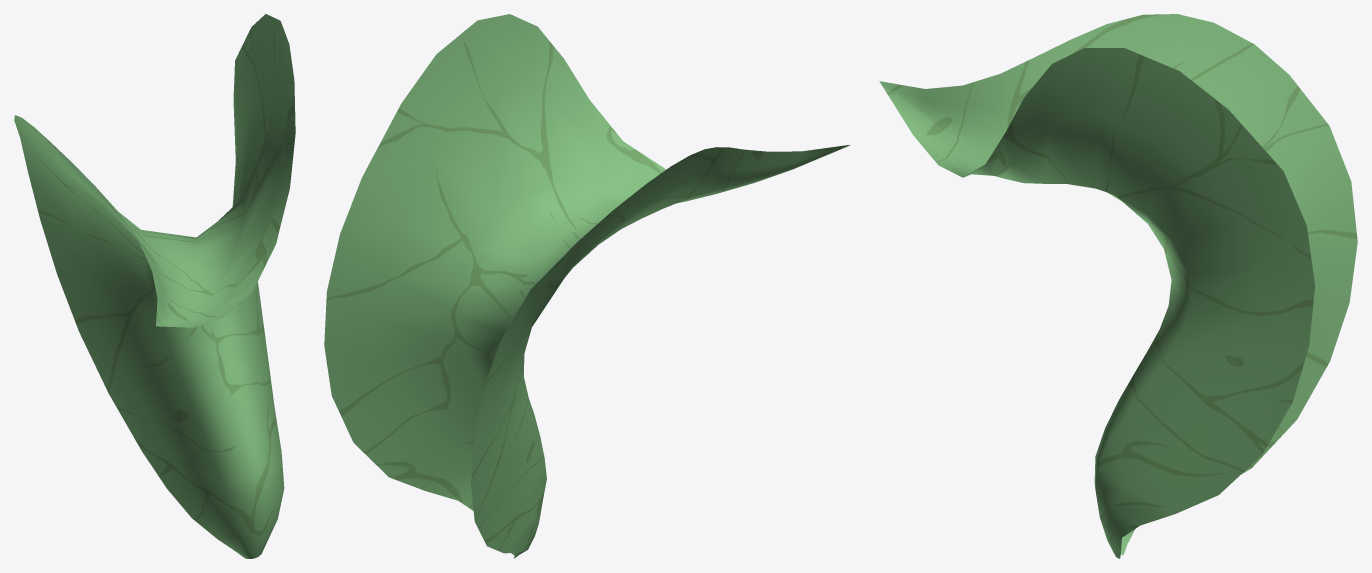
File: Mesh_Home_RF_Leaf_09_SM.fbx
3 renders of one model, left to right at view 1: azimuth 30°, elevation 25°; view 2: azimuth 150°, elevation 25°; view 3: azimuth 270°, elevation 25°, orthographic.
Visible parts, largest first — view 1: Mesh_Home_RF_Leaf_09; view 2: Mesh_Home_RF_Leaf_09; view 3: Mesh_Home_RF_Leaf_09.
Boxes of the visible parts, x1,y1,x2,y2 form: Mesh_Home_RF_Leaf_09: [14, 14, 295, 558]; Mesh_Home_RF_Leaf_09: [324, 14, 849, 558]; Mesh_Home_RF_Leaf_09: [879, 14, 1357, 558].
Size of the model in its own units: 960 by 1570 by 1299.
Materials: 1 (1 with a texture image).
